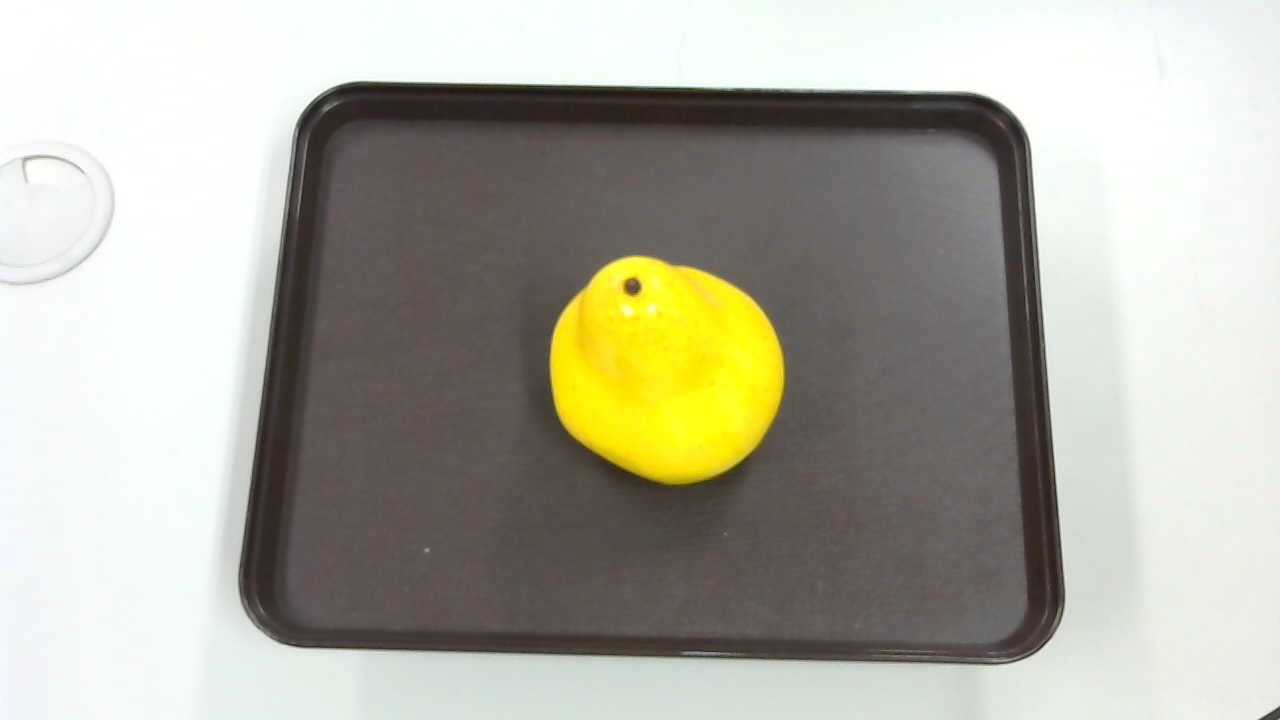yellow pear: (542, 249, 790, 491)
